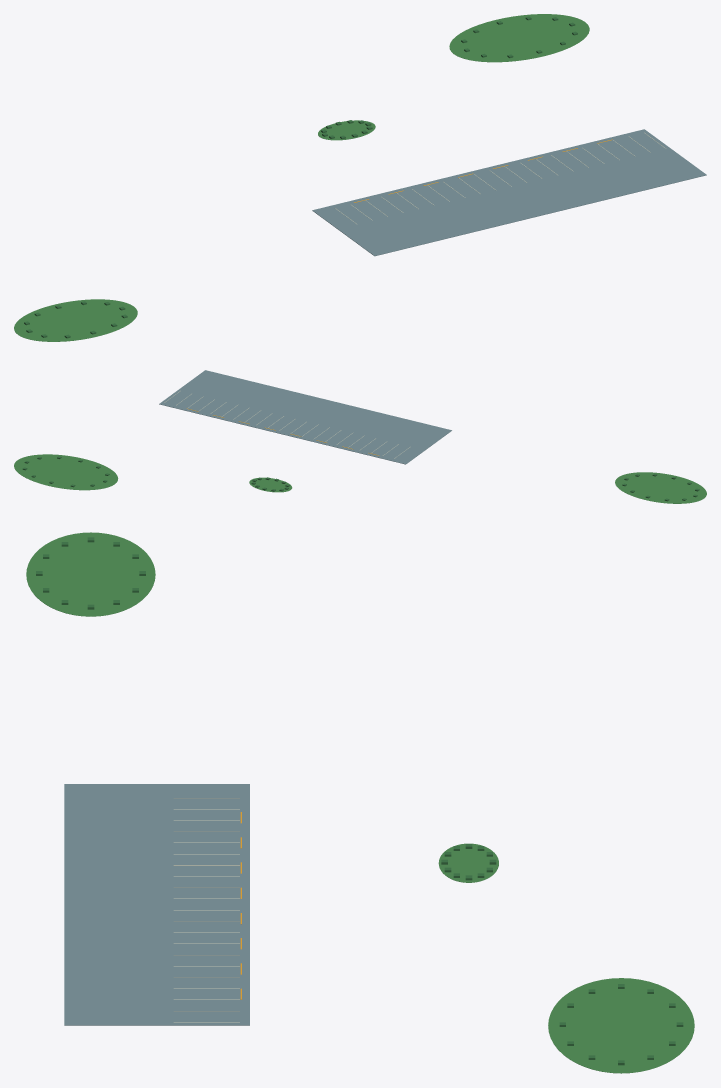
The model's file is site_finishes.glb.
The picture shows the model from 3 angles, top to bottom: view 1: azimuth 30°, elevation 25°; view 2: azimuth 150°, elevation 25°; view 3: azimuth 270°, elevation 25°; orthographic projection. The views are drawn at different scales.
Parts seen in each view (by area): view 1: PitApron, InfieldTurf, GardenEdges; view 2: PitApron, InfieldTurf, GardenEdges, ApronGrid; view 3: PitApron, InfieldTurf, ApronGrid, GardenEdges.
Part boxes in pixels (x1,y1,x2,y2): PitApron: [312, 129, 706, 256]; InfieldTurf: [14, 14, 589, 341]; GardenEdges: [24, 16, 577, 338]; PitApron: [159, 370, 451, 464]; InfieldTurf: [14, 454, 706, 503]; GardenEdges: [22, 456, 699, 501]; ApronGrid: [164, 391, 409, 458]; PitApron: [64, 784, 249, 1025]; InfieldTurf: [26, 532, 694, 1073]; ApronGrid: [173, 798, 239, 1022]; GardenEdges: [36, 537, 683, 1065].
Size of the model in its own units: 193 by 0.375 by 101.
